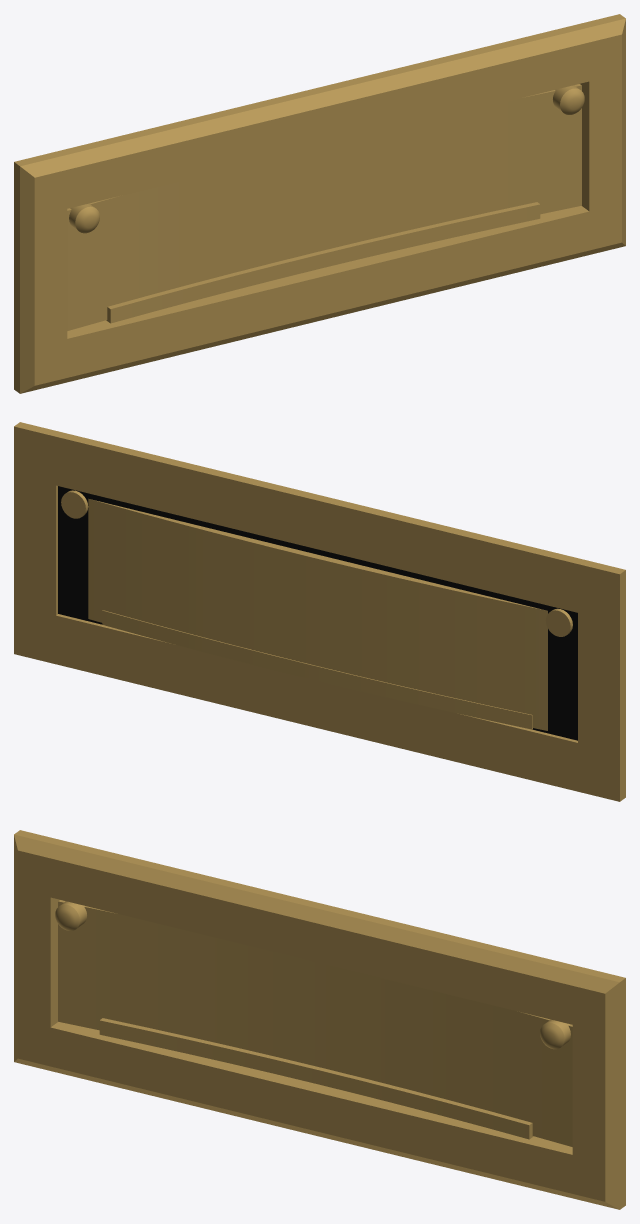
3 views of the same model, one above another, from view 1: azimuth 30°, elevation 25°; view 2: azimuth 150°, elevation 25°; view 3: azimuth 330°, elevation 25° (orthographic).
Visible parts, largest first — view 1: iron_letter_plate, iron_letter_flap, iron_letter_lip, iron_plate_pivot_r, iron_plate_pivot_l; view 2: iron_letter_plate, iron_letter_flap, iron_letter_liner, iron_letter_lip, iron_plate_pivot_r, iron_plate_pivot_l; view 3: iron_letter_plate, iron_letter_flap, iron_letter_lip, iron_plate_pivot_l, iron_plate_pivot_r.
Part boxes in pixels (box(x1,y1,x2,y2)): iron_letter_plate: box(14, 14, 625, 393); iron_letter_flap: box(67, 84, 581, 330); iron_letter_lip: box(106, 202, 540, 323); iron_plate_pivot_r: box(553, 85, 584, 114); iron_plate_pivot_l: box(69, 203, 99, 233); iron_letter_plate: box(14, 422, 625, 801); iron_letter_flap: box(88, 498, 547, 730); iron_letter_liner: box(58, 486, 577, 740); iron_letter_lip: box(102, 610, 532, 729); iron_plate_pivot_r: box(61, 490, 88, 518); iron_plate_pivot_l: box(546, 608, 572, 636); iron_letter_plate: box(14, 830, 625, 1209); iron_letter_flap: box(58, 900, 572, 1146); iron_letter_lip: box(99, 1018, 533, 1139); iron_plate_pivot_l: box(55, 901, 86, 930); iron_plate_pivot_r: box(540, 1019, 570, 1049).
Size of the model in its own units: 0.195 by 0.07 by 0.0109.
